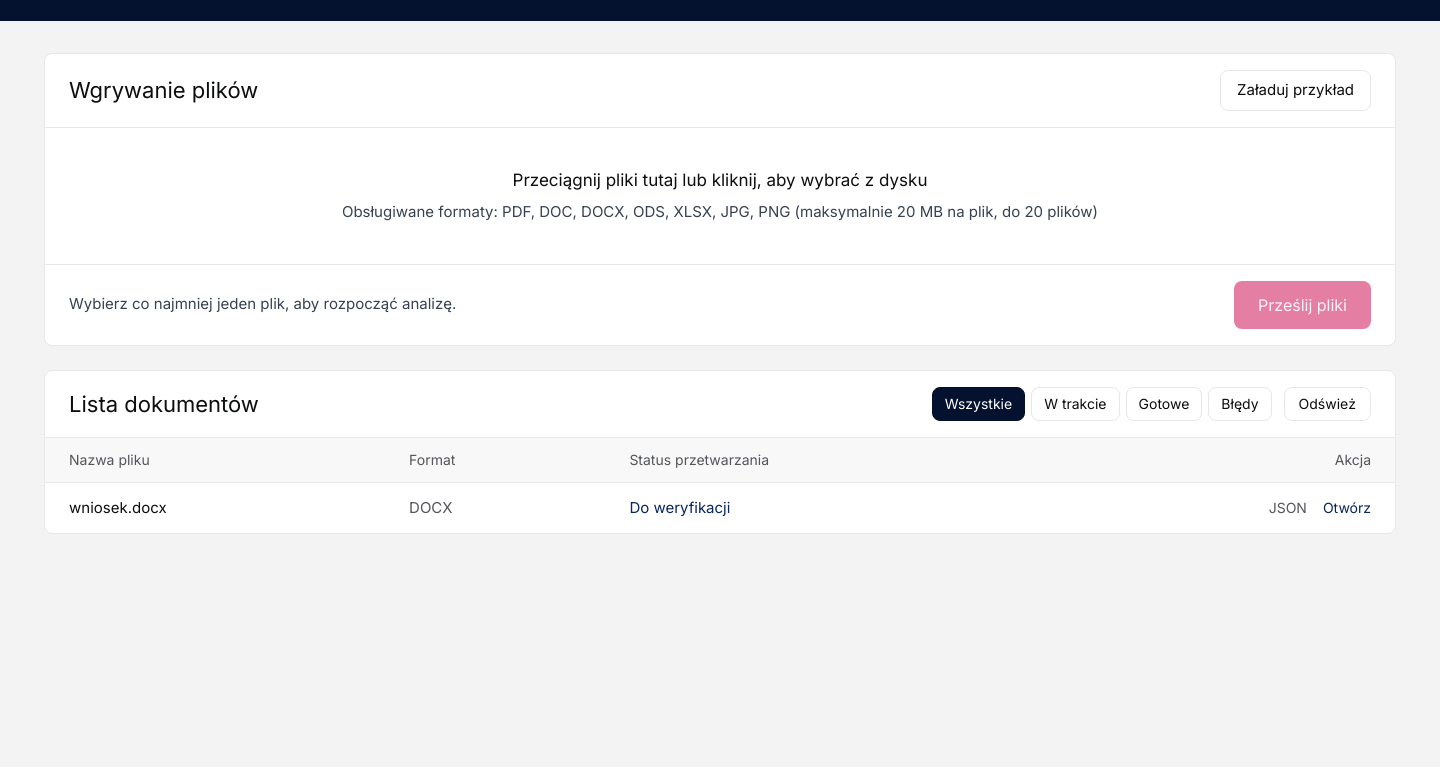
Scenario: Wynik analizy prosto z backendu (fragment prawdziwego wyniku pipeline’u) › zatwierdza wynik bez poprawek i wysyła komplet pól
Click the button "Otwórz": (1347, 508) [1323,498,1371,518]
(page scrolled)
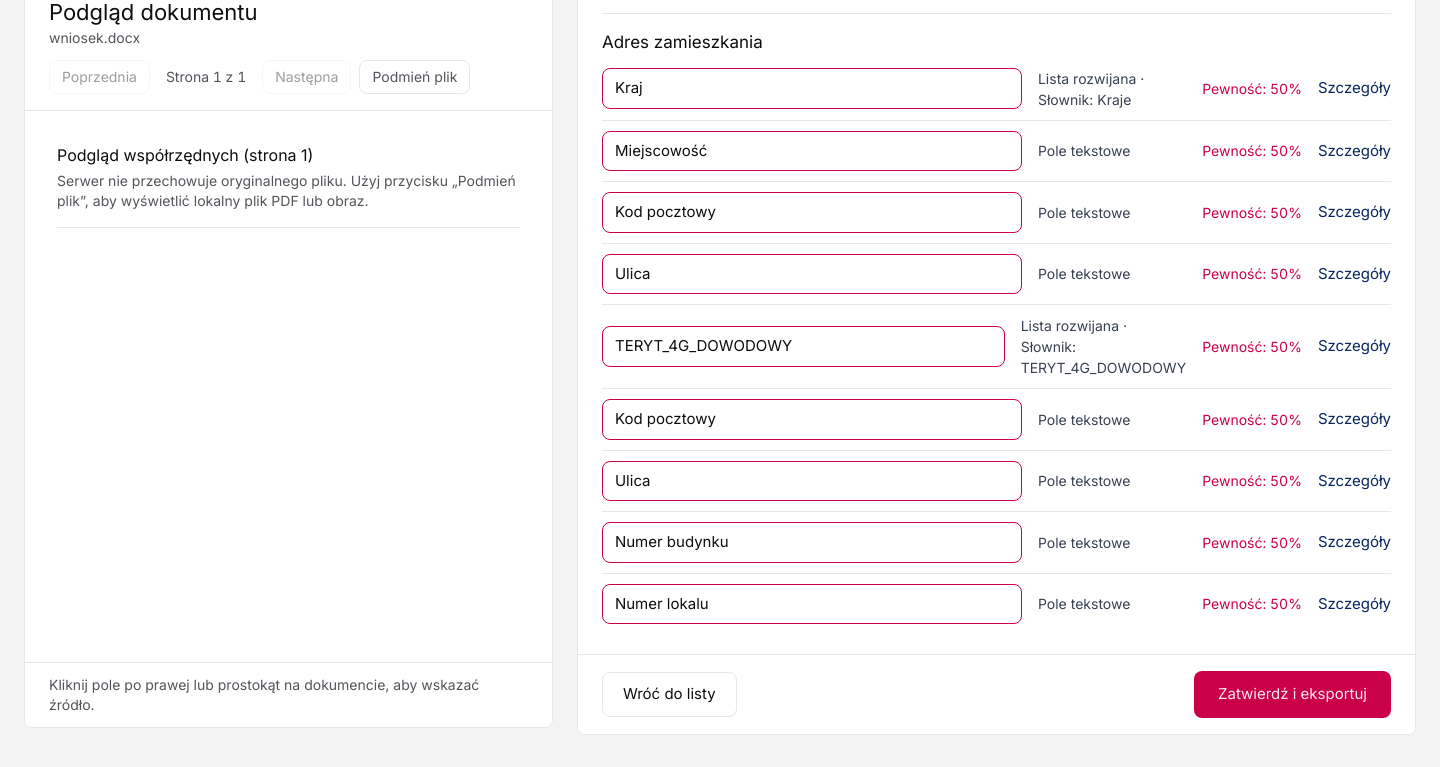
Click the button with test id "approve-form-button": (1292, 694) [1194,671,1391,718]
(page scrolled)
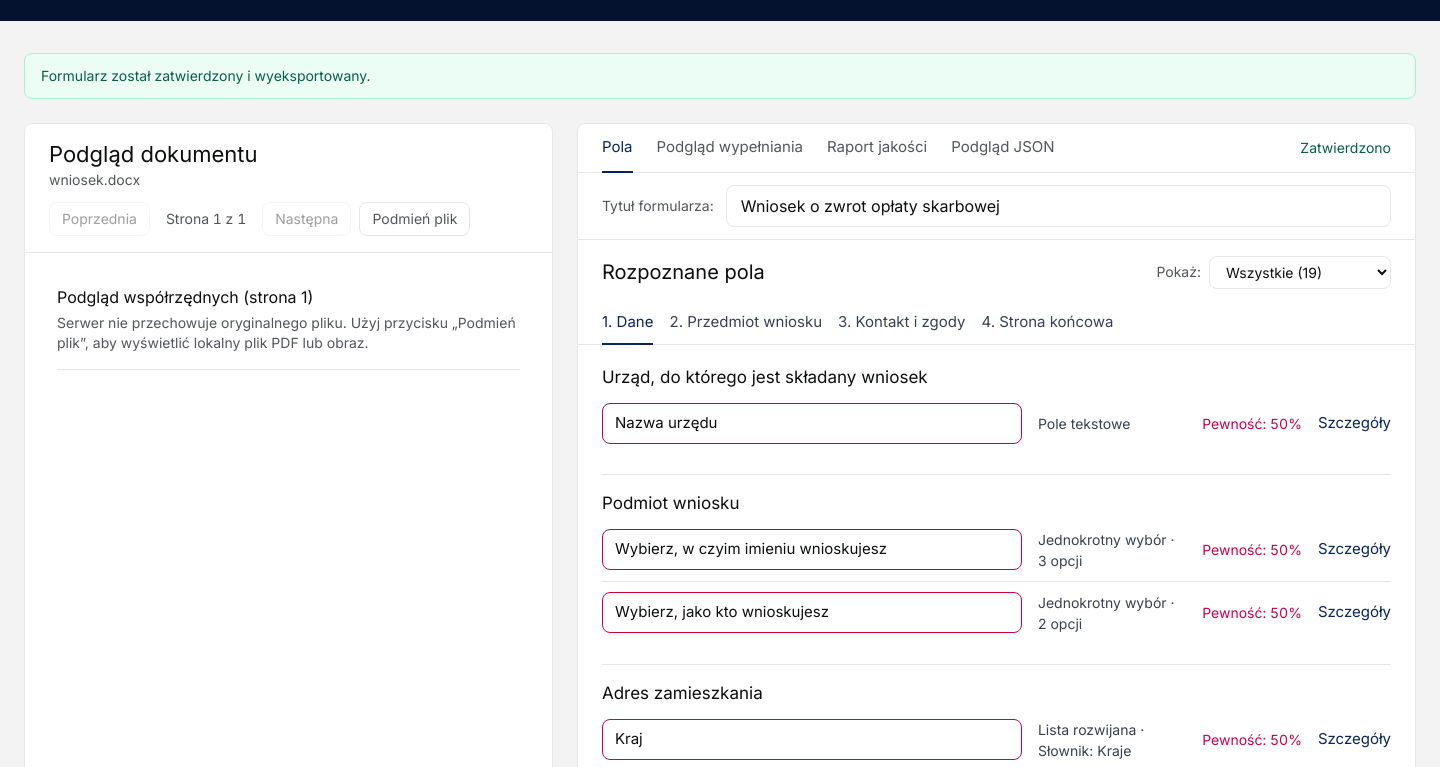
Now the text "Zatwierdzono" is shown, box [1300,138,1391,158]
